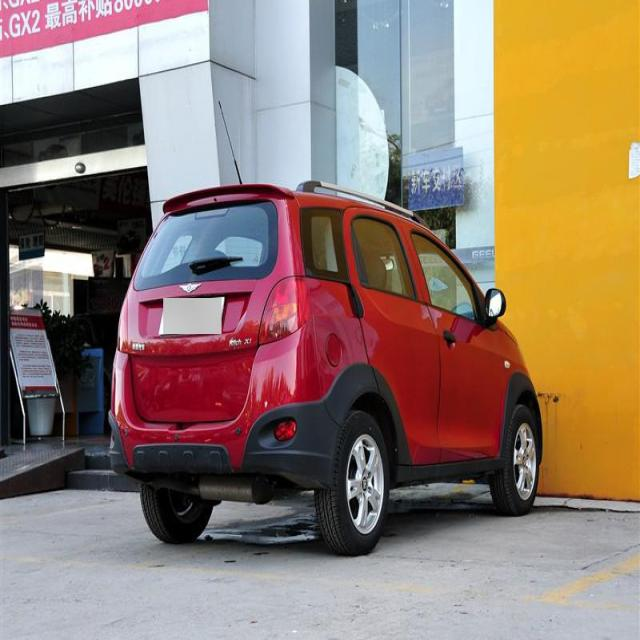back_glass: (133, 199, 279, 292)
back_left_side_light: (116, 292, 130, 354)
back_right_side_light: (258, 272, 310, 348)
door: (339, 206, 442, 466)
front_right_side_door: (400, 216, 502, 462)
front_right_side_mirror: (485, 287, 508, 324)
rear_bumper: (109, 320, 341, 486)
wheel: (320, 412, 389, 553), (136, 483, 214, 544), (498, 407, 539, 507)
